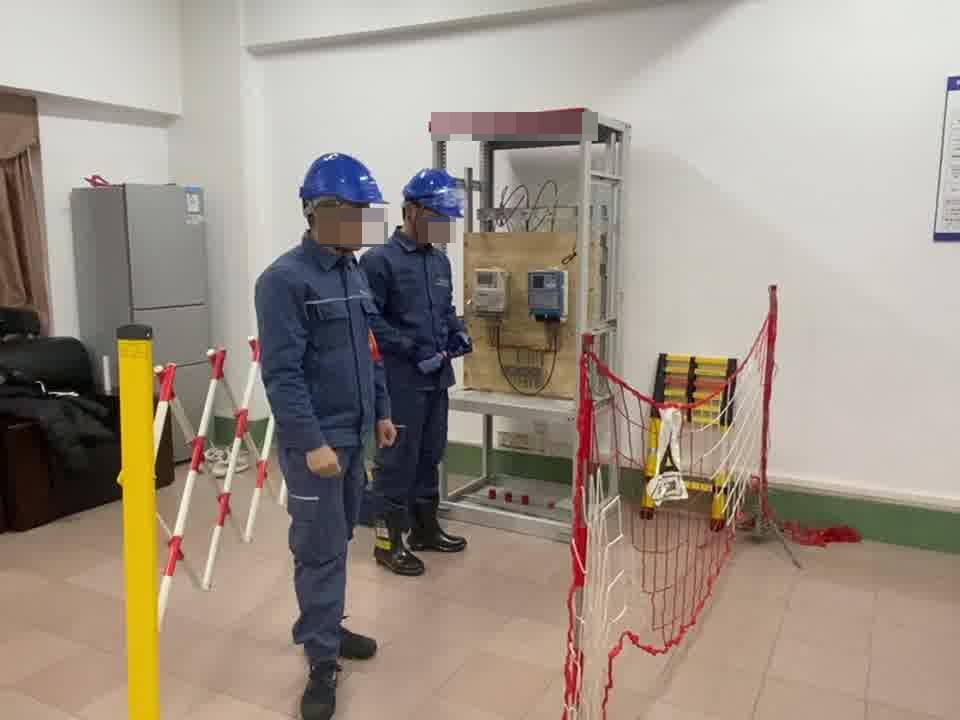downsuit: (278, 439, 368, 645), (375, 382, 448, 502)
glove: (411, 341, 445, 374), (444, 326, 476, 358)
halt: (297, 152, 383, 250), (400, 167, 465, 243)
hand: (304, 442, 345, 483), (374, 419, 396, 453)
inear: (312, 196, 346, 235), (400, 200, 426, 232)
person: (252, 147, 388, 720), (361, 164, 474, 576)
shoe: (375, 496, 468, 576)
upsuit: (255, 249, 371, 439), (366, 239, 462, 377)
